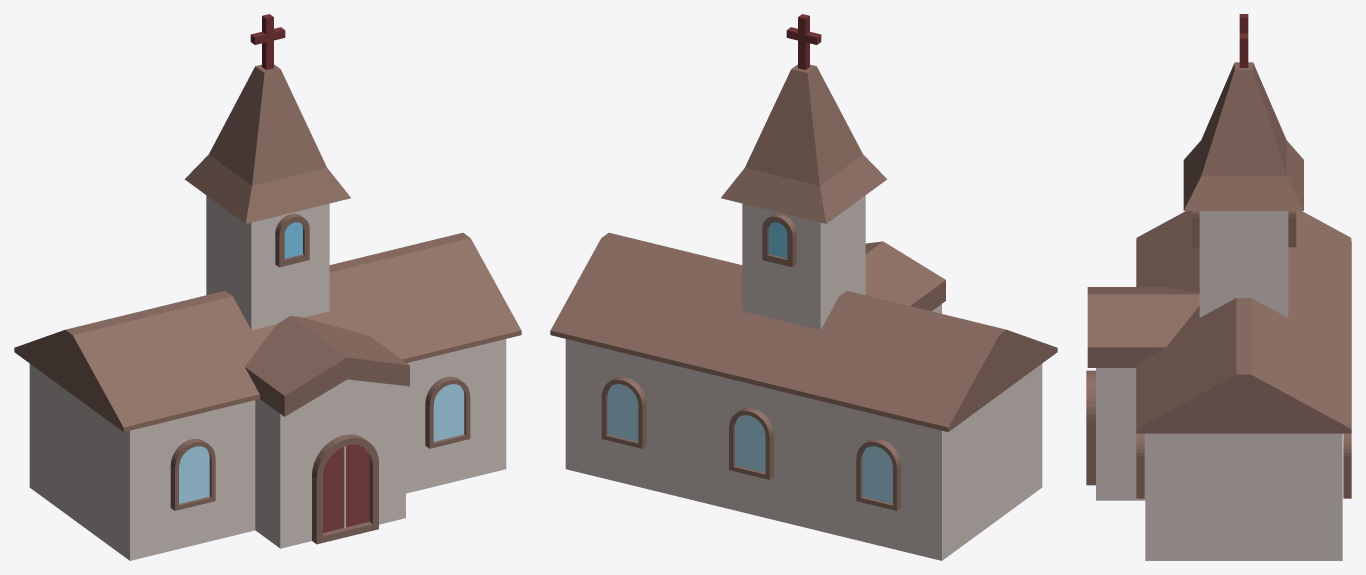
The model's file is church.gltf.
3 renders of one model, left to right at view 1: azimuth 30°, elevation 25°; view 2: azimuth 150°, elevation 25°; view 3: azimuth 270°, elevation 25°, orthographic.
Visible parts, largest first — view 1: Cube.503; view 2: Cube.503; view 3: Cube.503.
Part boxes in pixels (left/top/right/bottom): Cube.503: left=14, top=14, right=521, bottom=560; Cube.503: left=550, top=14, right=1057, bottom=560; Cube.503: left=1086, top=14, right=1351, bottom=560.
Size of the model in its own units: 2 by 2.22 by 1.17.
Materials: 1 (1 with a texture image).
